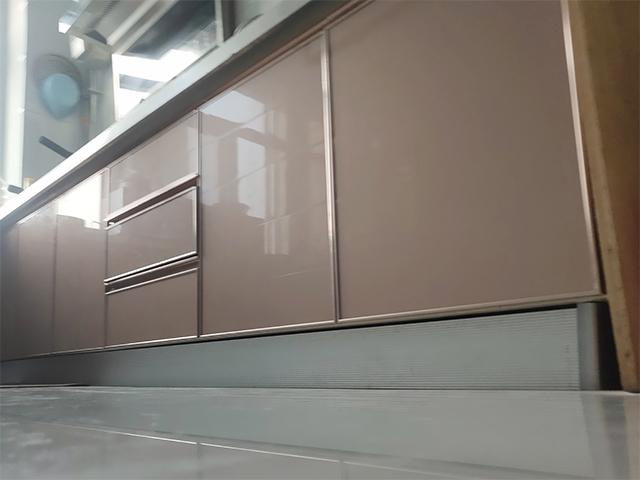cabinet: (1, 1, 603, 387)
carpet: (1, 382, 88, 389)
